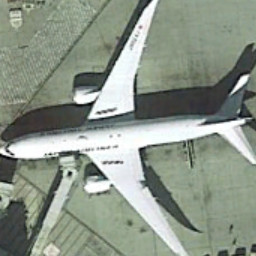Airplane: (1, 1, 254, 255)
